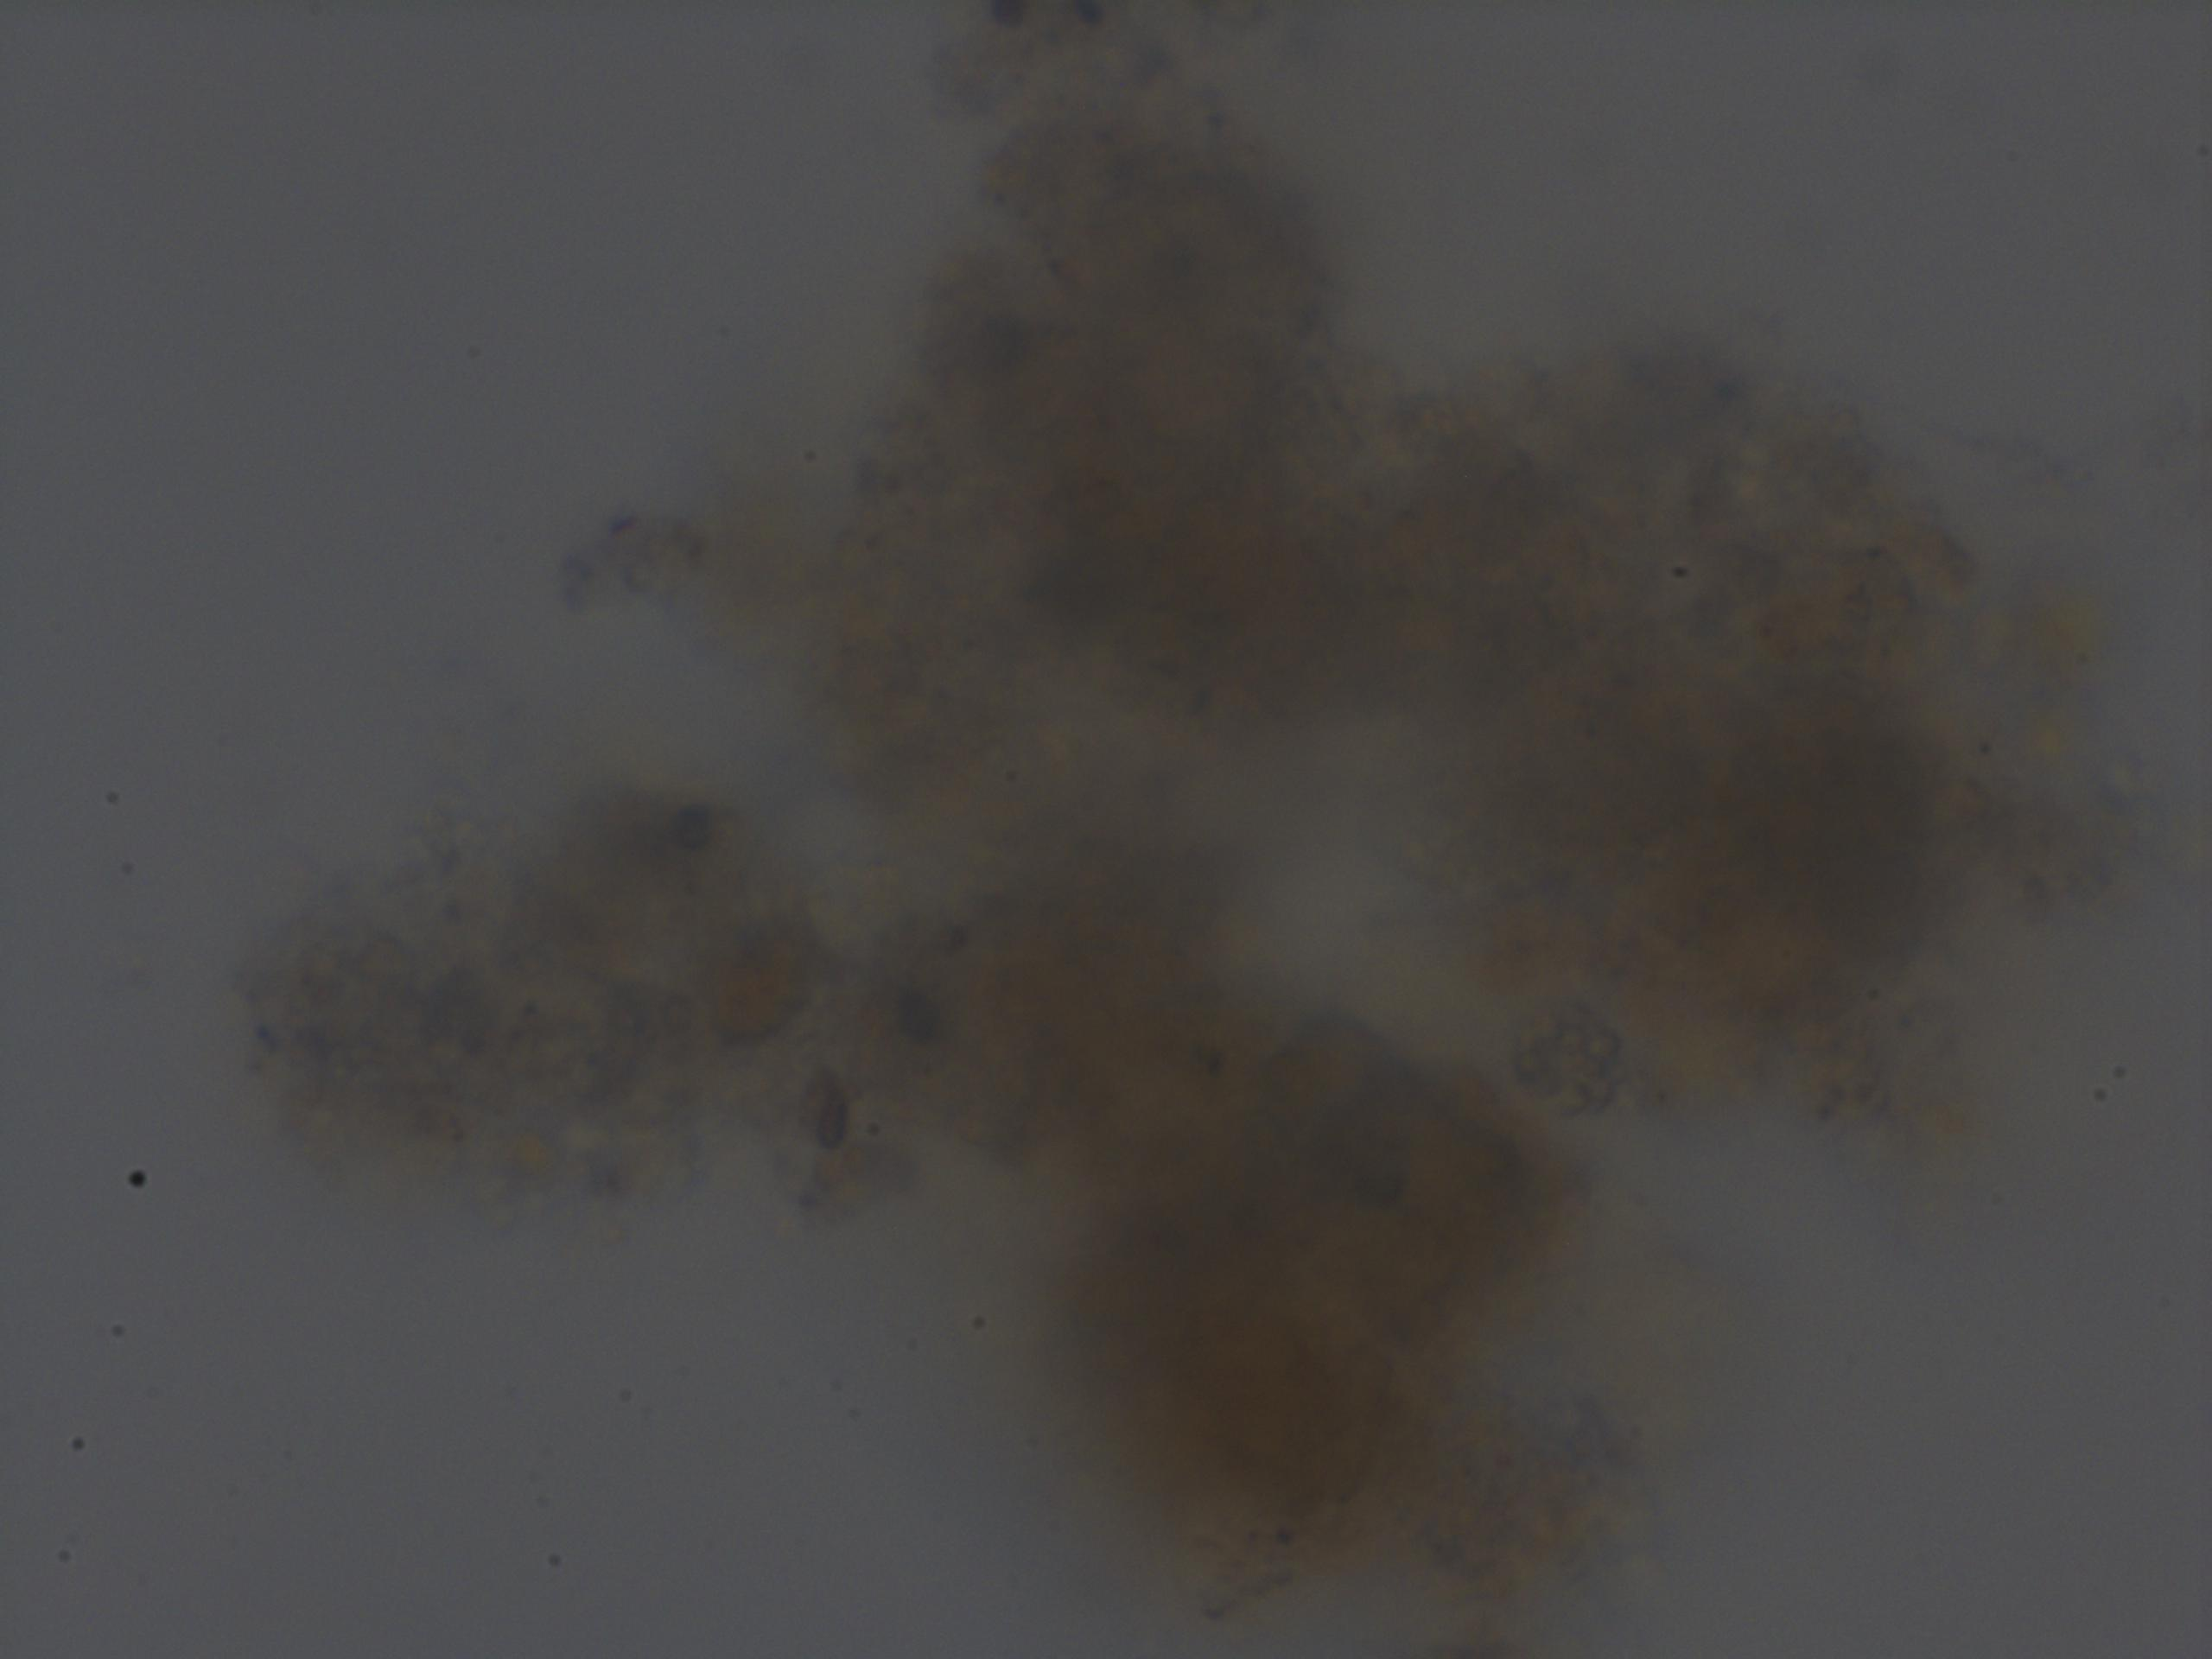open_floc: (256, 7, 2054, 1659)
